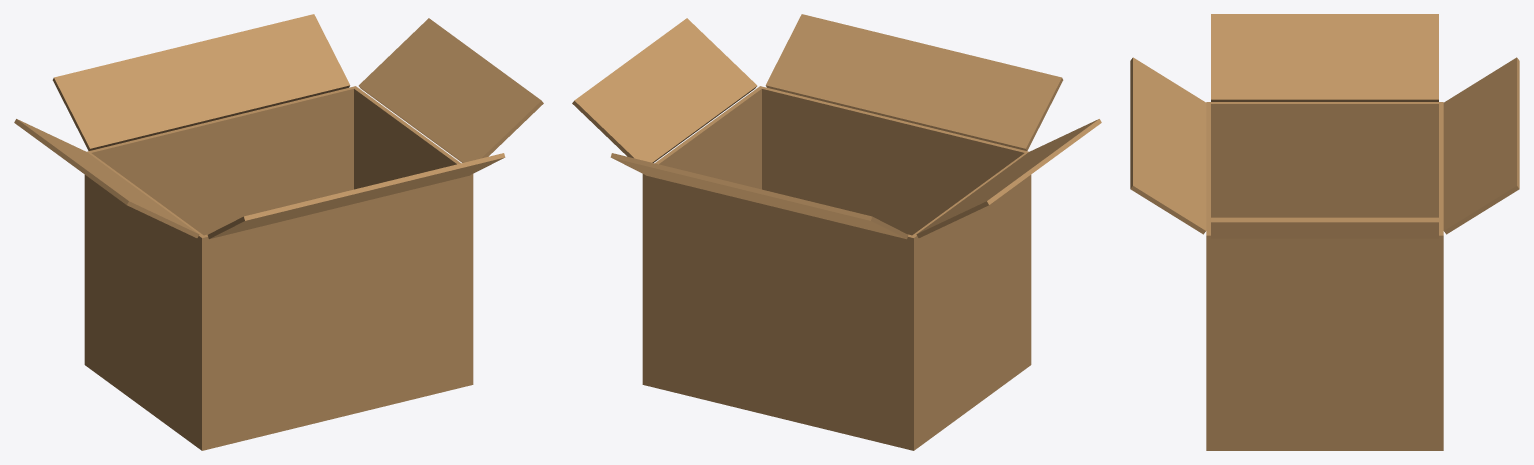
Rendered from sm_box_l_open.glb.
The picture shows the model from 3 angles, left to right: view 1: azimuth 30°, elevation 25°; view 2: azimuth 150°, elevation 25°; view 3: azimuth 270°, elevation 25°; orthographic projection.
Parts seen in each view (by area): view 1: box_l_open_wall_y, box_l_open_wall_x, box_l_open_wall_y.001, box_l_open_flap_y.001, box_l_open_flap_x.001, box_l_open_wall_x.001, box_l_open_flap_y, box_l_open_flap_x, box_l_open_floor; view 2: box_l_open_wall_y.001, box_l_open_wall_x, box_l_open_wall_y, box_l_open_flap_y, box_l_open_flap_x.001, box_l_open_wall_x.001, box_l_open_flap_y.001, box_l_open_flap_x, box_l_open_floor; view 3: box_l_open_wall_x.001, box_l_open_wall_x, box_l_open_flap_x, box_l_open_flap_y, box_l_open_flap_y.001, box_l_open_flap_x.001, box_l_open_wall_y, box_l_open_wall_y.001, box_l_open_floor.
Boxes of the visible parts, <box> form: box_l_open_wall_y: <box>199,176,469,445</box>; box_l_open_wall_x: <box>85,153,206,449</box>; box_l_open_wall_y.001: <box>84,86,357,363</box>; box_l_open_flap_y.001: <box>52,14,350,150</box>; box_l_open_flap_x.001: <box>358,18,543,162</box>; box_l_open_wall_x.001: <box>353,86,473,384</box>; box_l_open_flap_y: <box>207,153,505,239</box>; box_l_open_flap_x: <box>14,119,199,237</box>; box_l_open_floor: <box>84,361,473,450</box>; box_l_open_wall_y.001: <box>646,176,916,446</box>; box_l_open_wall_x: <box>909,153,1031,450</box>; box_l_open_wall_y: <box>758,86,1031,365</box>; box_l_open_flap_y: <box>765,14,1063,150</box>; box_l_open_flap_x.001: <box>572,18,757,162</box>; box_l_open_wall_x.001: <box>642,86,763,381</box>; box_l_open_flap_y.001: <box>610,153,908,239</box>; box_l_open_flap_x: <box>916,119,1101,237</box>; box_l_open_floor: <box>642,361,1031,450</box>; box_l_open_wall_x.001: <box>1206,234,1443,450</box>; box_l_open_wall_x: <box>1206,102,1442,217</box>; box_l_open_flap_x: <box>1211,14,1438,101</box>; box_l_open_flap_y: <box>1130,57,1206,234</box>; box_l_open_flap_y.001: <box>1443,57,1519,234</box>; box_l_open_flap_x.001: <box>1211,217,1438,238</box>; box_l_open_wall_y: <box>1206,102,1210,450</box>; box_l_open_wall_y.001: <box>1439,102,1443,448</box>; box_l_open_floor: <box>1206,446,1443,450</box>.
Size of what is drawn, in the model's own units: 1.23 by 0.7481 by 0.9837.
